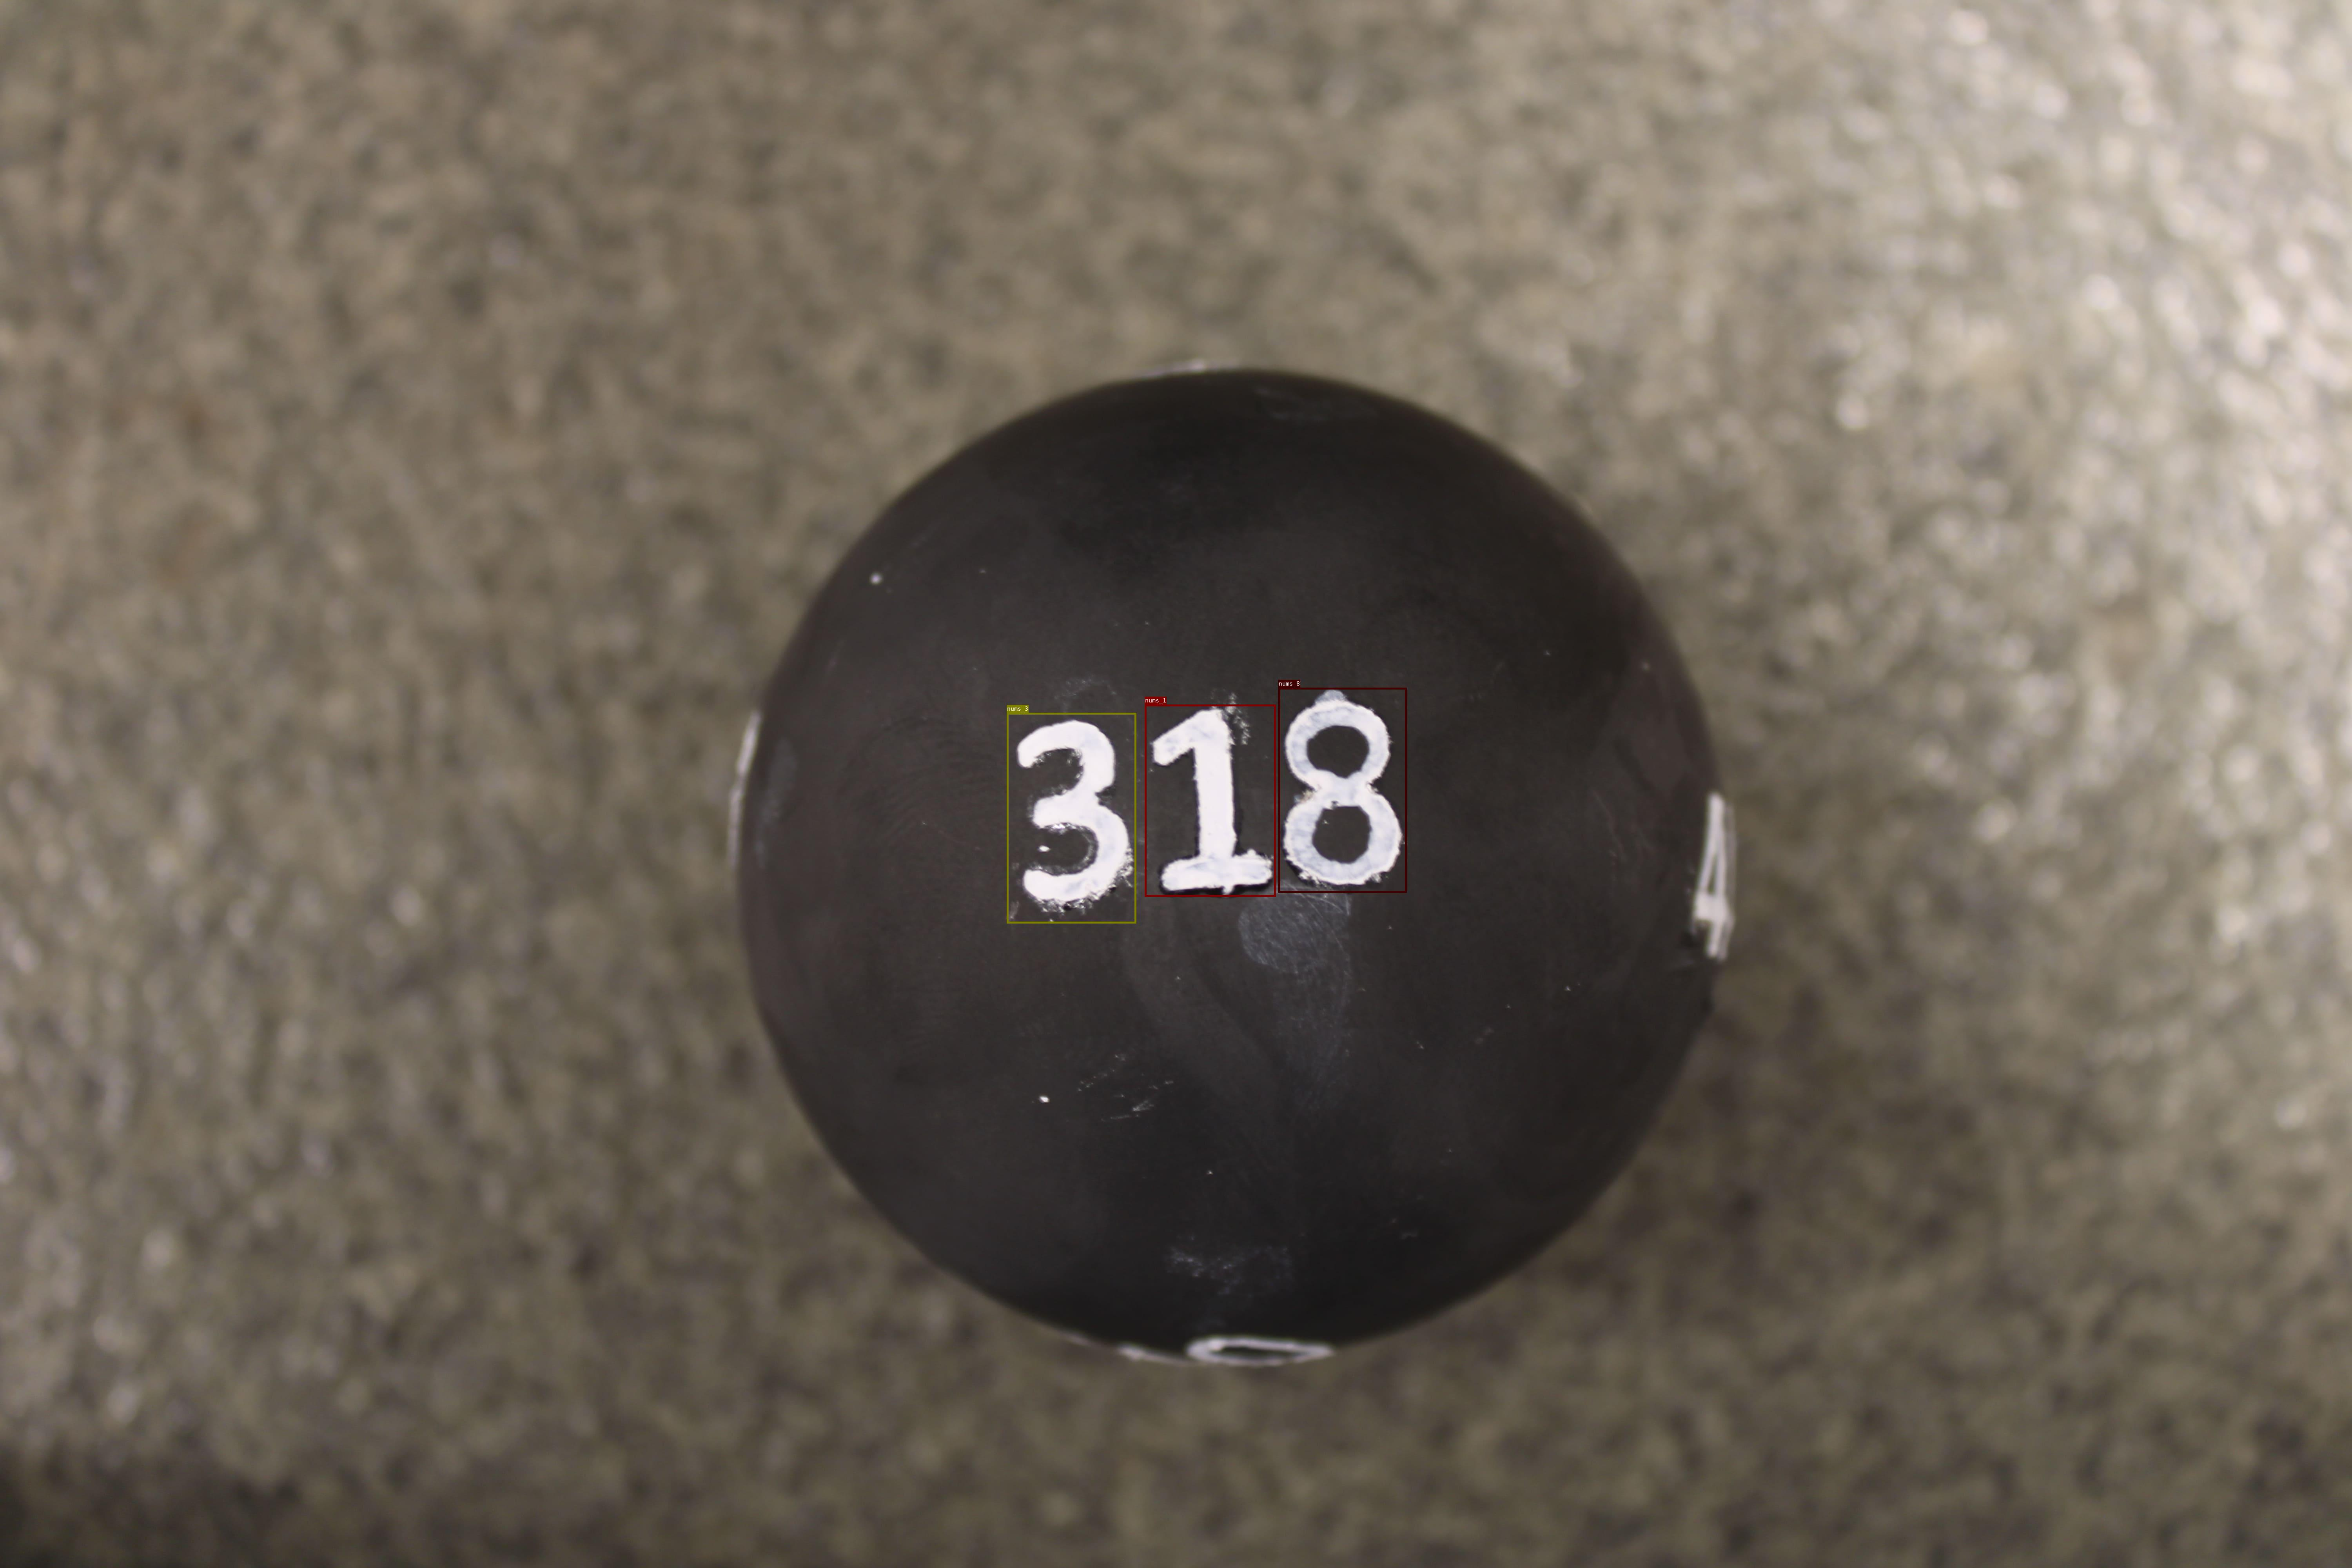nums_1: (1145, 705, 1276, 896)
nums_3: (1006, 712, 1136, 924)
nums_8: (1277, 688, 1407, 892)
